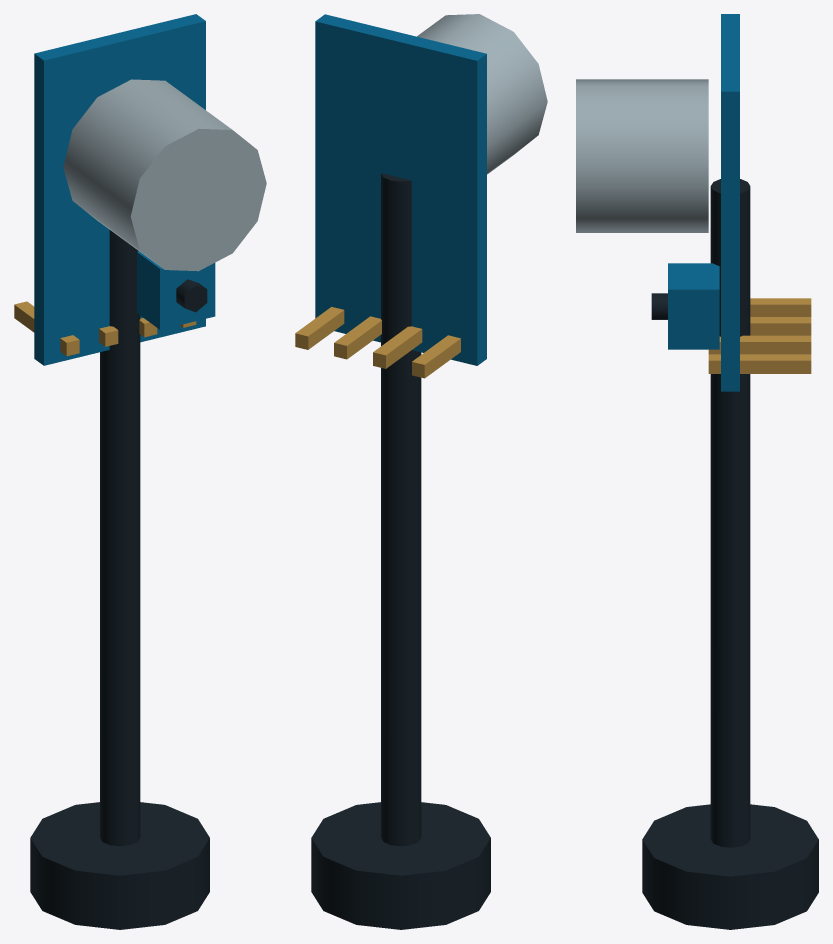
3 views of the same model, side by side, from view 1: azimuth 30°, elevation 25°; view 2: azimuth 150°, elevation 25°; view 3: azimuth 270°, elevation 25° (orthographic).
Parts seen in each view (by area): view 1: black-anodised, blue-pcb, stainless-steel, plated-brass; view 2: blue-pcb, black-anodised, stainless-steel, plated-brass; view 3: black-anodised, stainless-steel, blue-pcb, plated-brass.
Boxes of the visible parts, x1,y1,x2,y2 form: black-anodised: [30, 230, 209, 929]; blue-pcb: [34, 14, 215, 365]; stainless-steel: [63, 79, 266, 271]; plated-brass: [14, 301, 196, 356]; blue-pcb: [315, 14, 486, 365]; black-anodised: [311, 173, 490, 929]; stainless-steel: [417, 14, 547, 174]; plated-brass: [295, 307, 460, 378]; black-anodised: [642, 179, 818, 929]; stainless-steel: [576, 79, 708, 232]; blue-pcb: [668, 14, 739, 391]; plated-brass: [708, 298, 811, 373].
Bounding box in the file's own units: 0.25 × 1.26 × 0.33.
